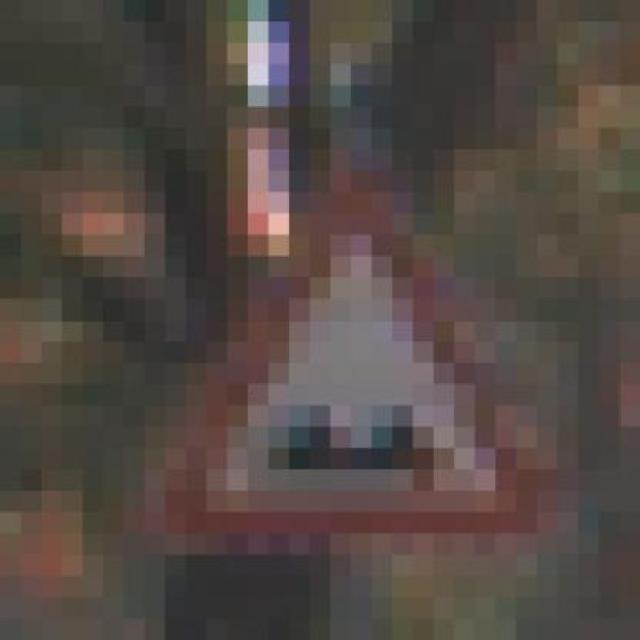Uneven Road: (144, 150, 558, 556)
